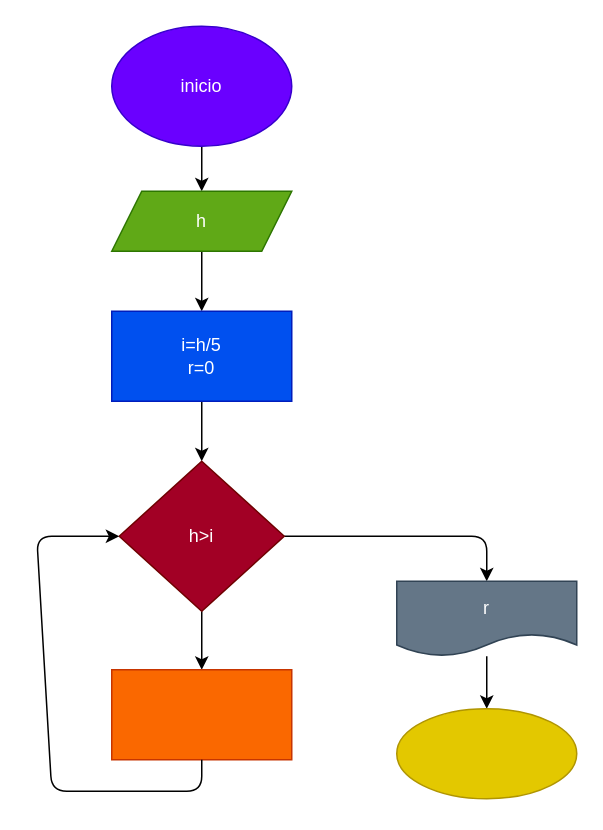
This 603x830 diagram has some shape labels left out. The shapes that lost their labels are listed below. From the top down, each one's box as (x1, y1, x2, y2) in pixels, then its label:
(110, 668, 292, 760): h=h-(0.010*h) r=r+1
(395, 707, 577, 799): fin
